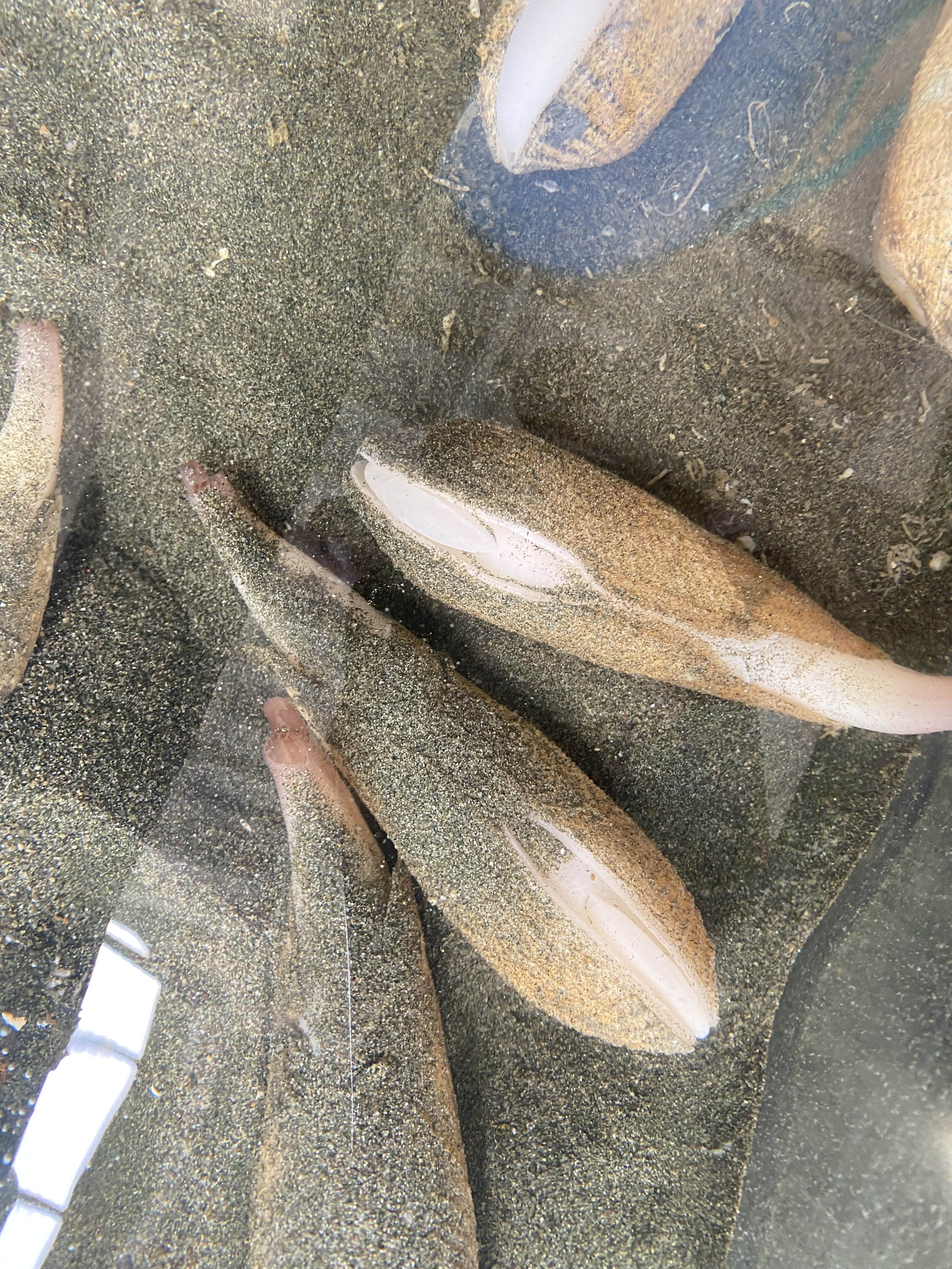Healthy: (183, 464, 717, 1051), (345, 420, 952, 734), (252, 697, 477, 1269), (0, 321, 63, 697), (278, 539, 359, 604)
